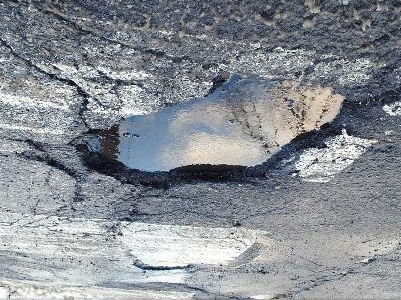pothole: (71, 71, 351, 193), (129, 259, 192, 274)
